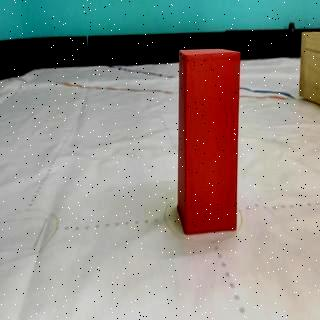redbox: (176, 47, 242, 236)
